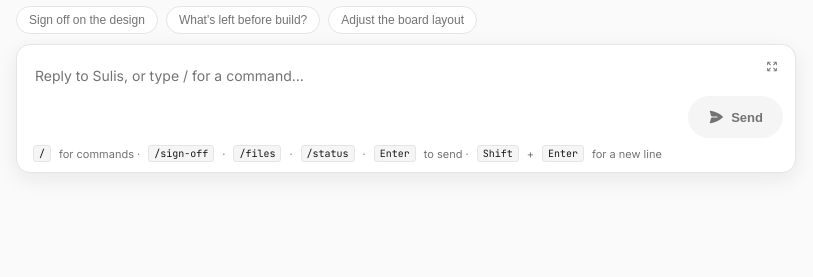
it: <Composer /> — the docked write surface (signed contract) › shows a clear failure and does NOT show delivered when unreachable (FR-19)
Type "hi" into the text box named "message this change's agent". click: (354, 98)
box: [29,57,678,138]
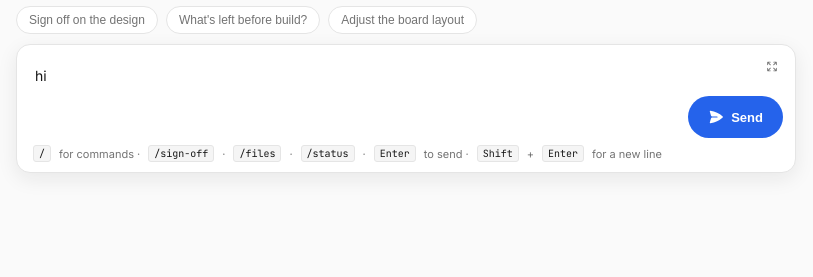
Press Enter in the text box named "message this change's agent", box [29,57,678,138]
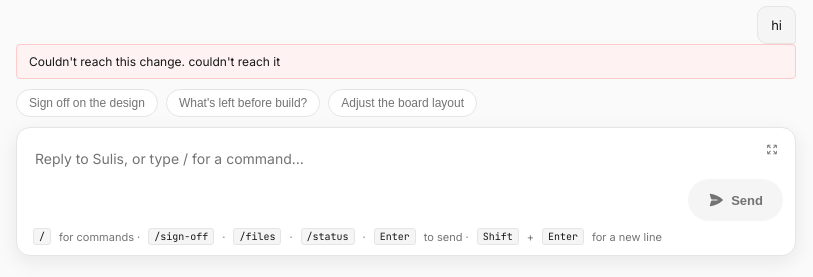
Check: the message "Couldn't reach this change. couldn't reach it" is shown, box [16,44,796,79]
